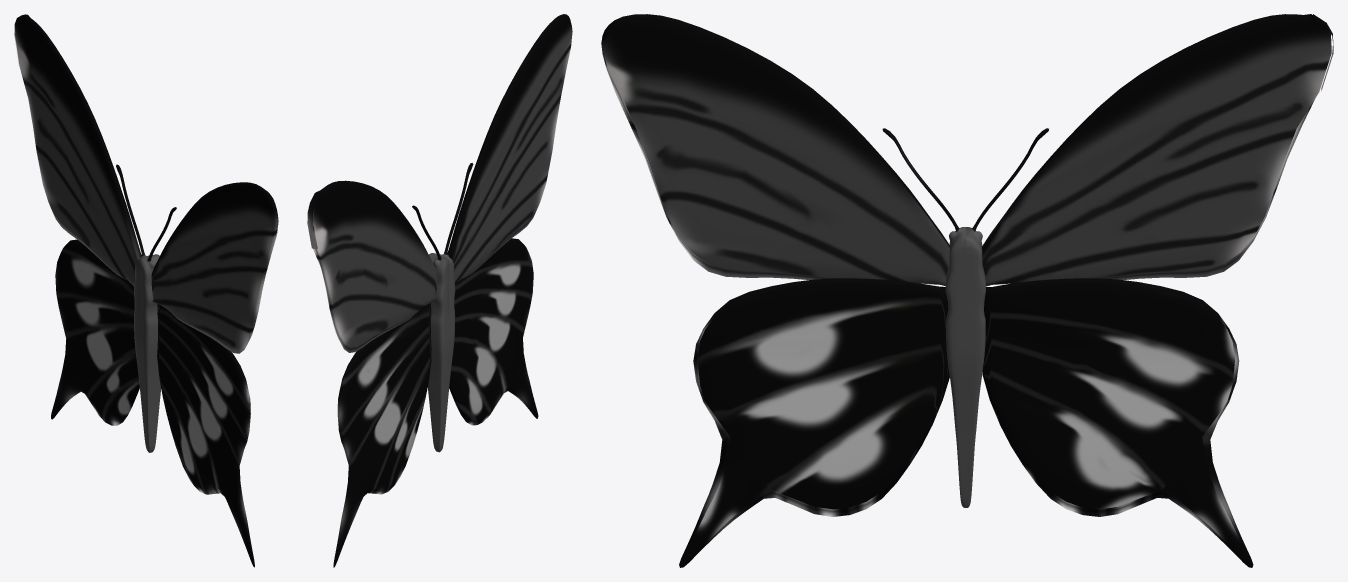
File: ButterflyModel_PapilioPolytes.fbx
The picture shows the model from 3 angles, left to right: view 1: azimuth 30°, elevation 25°; view 2: azimuth 150°, elevation 25°; view 3: azimuth 270°, elevation 25°; orthographic projection. The views are drawn at different scales.
Visible parts, largest first — view 1: polySurface2, polySurface3, polySurface4; view 2: polySurface3, polySurface2, polySurface4; view 3: polySurface3, polySurface2, polySurface4.
Boxes of the visible parts, <box> form: polySurface2: <box>151,182,278,567</box>; polySurface3: <box>15,14,141,425</box>; polySurface4: <box>14,14,176,452</box>; polySurface3: <box>312,180,437,567</box>; polySurface2: <box>447,14,572,425</box>; polySurface4: <box>307,163,473,452</box>; polySurface3: <box>982,14,1331,567</box>; polySurface2: <box>601,14,949,567</box>; polySurface4: <box>882,14,1333,507</box>.
Bounding box in the file's own units: 0.6855 × 12.13 × 14.63.
